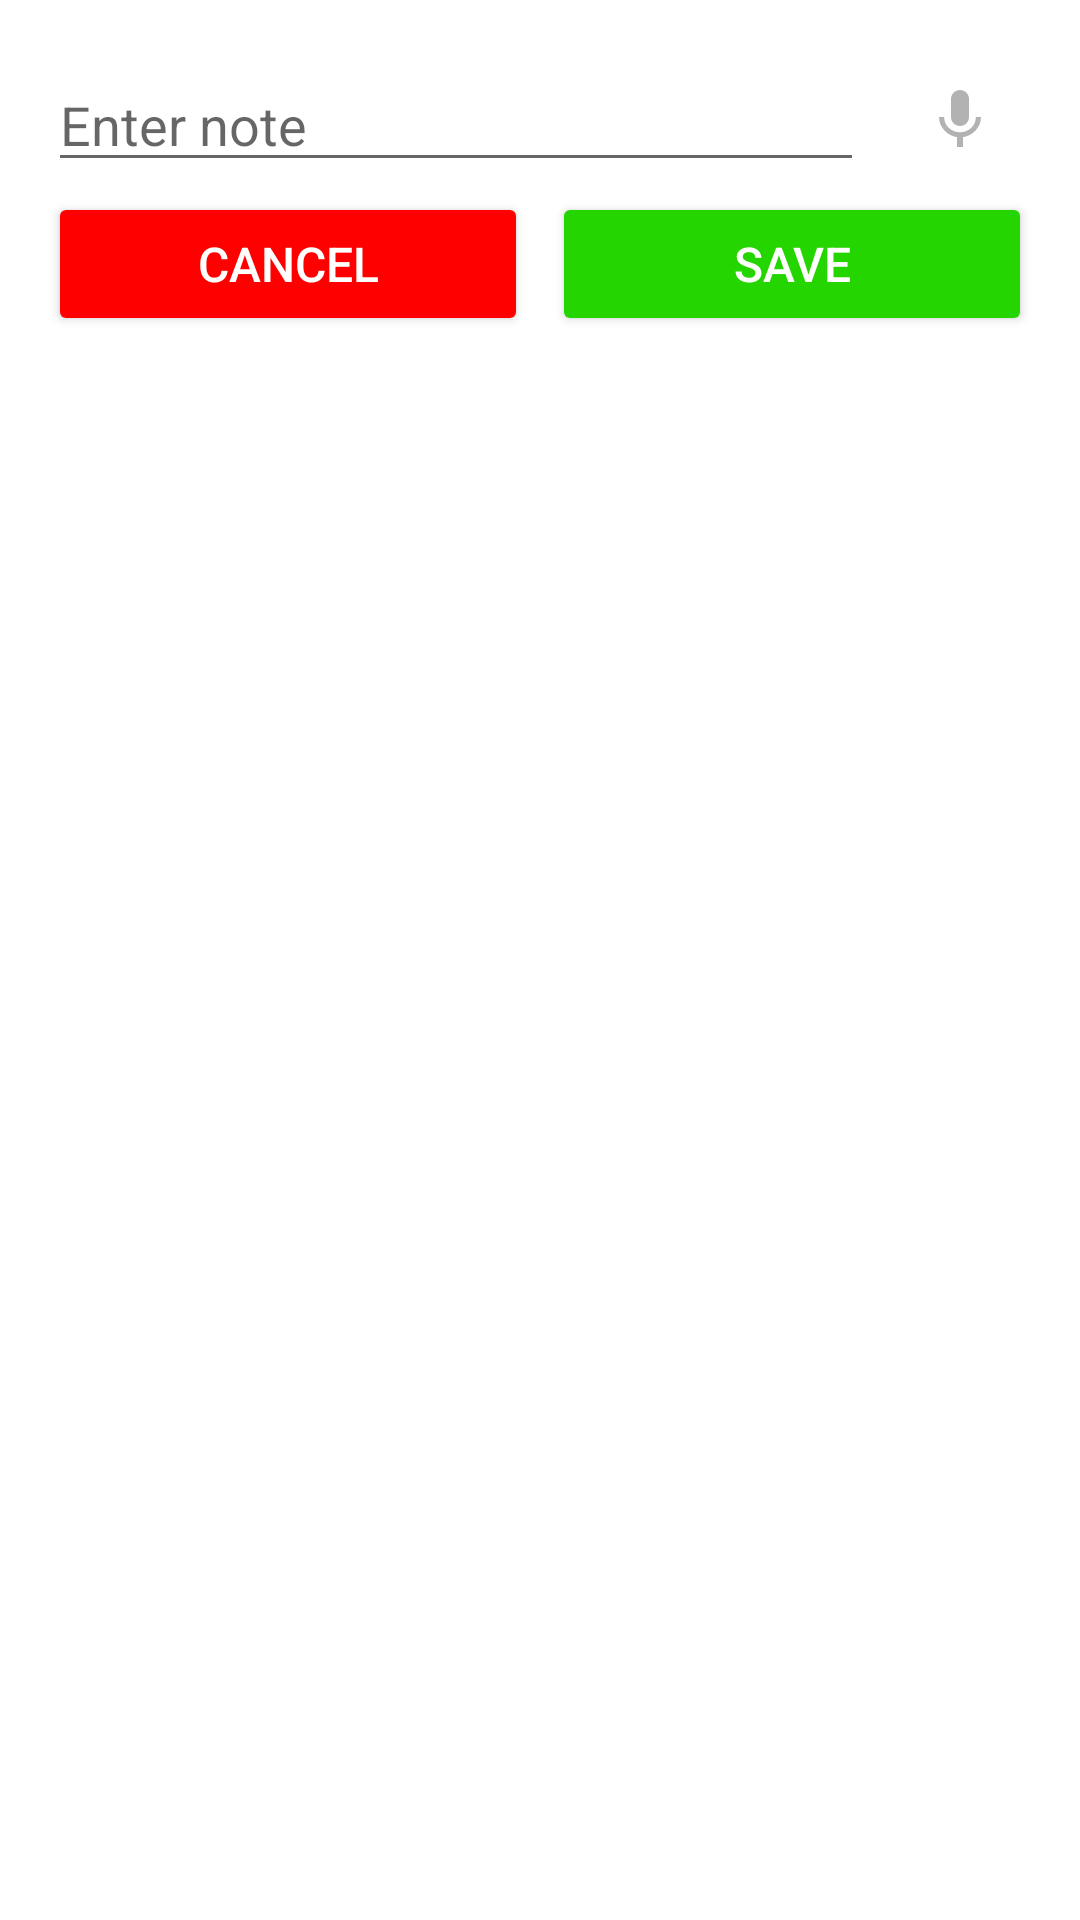

Named icons in this screenshot (1080x1920) and their bounding boxes, (x1, y1, x2, y2):
Speech to text: (939, 90, 981, 147)
